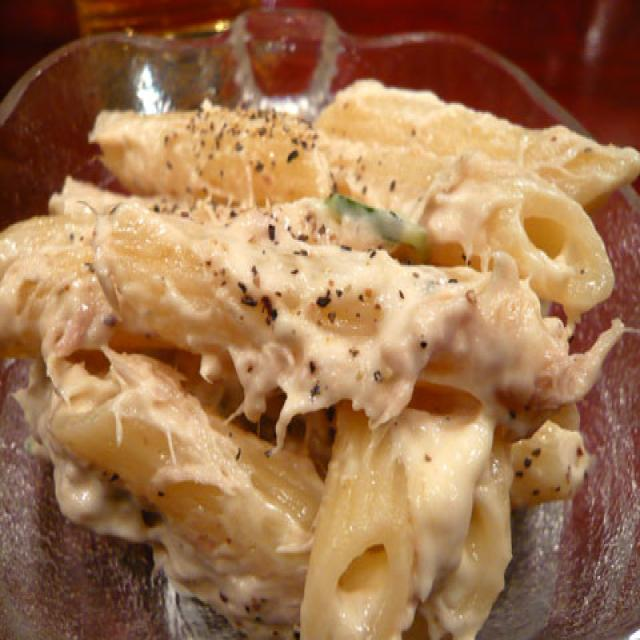蔬菜料理: (5, 42, 628, 634)
